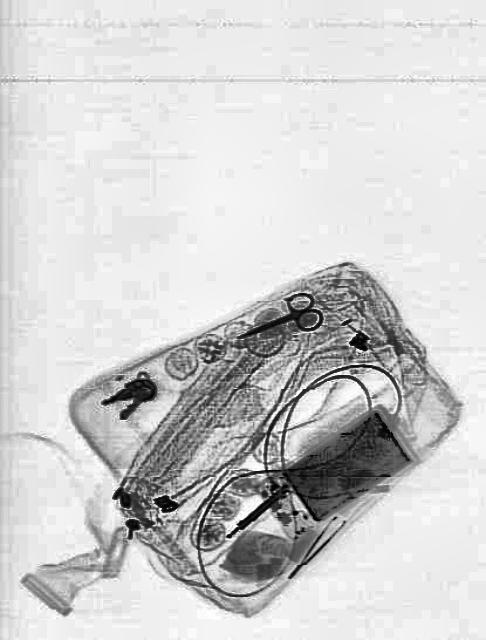Scissors: (230, 284, 324, 358)
